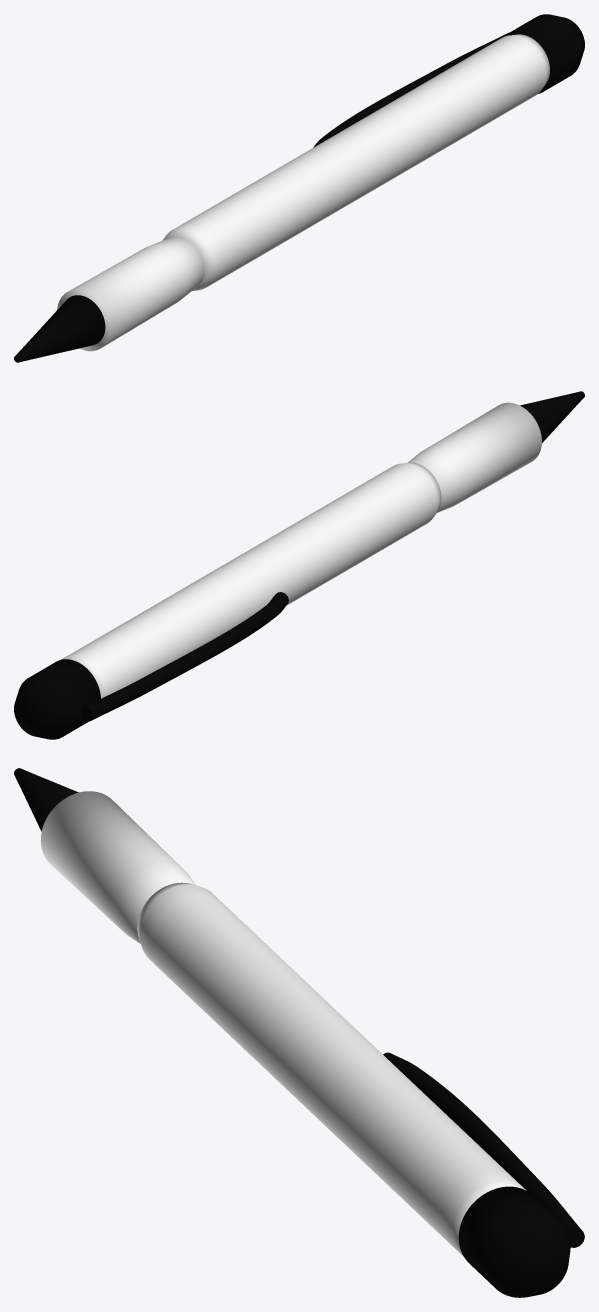
File: pen.glb
3 renders of one model, top to bottom at view 1: azimuth 30°, elevation 25°; view 2: azimuth 210°, elevation 25°; view 3: azimuth 270°, elevation 25°, orthographic. The views are drawn at different scales.
Visible parts, largest first — view 1: barrel, grip, tip, cap, clip; view 2: barrel, grip, cap, clip, tip; view 3: barrel, grip, cap, clip, tip.
Part boxes in pixels (x1,y1,x2,y2): barrel: (162, 34, 549, 290); grip: (57, 236, 204, 351); tip: (14, 295, 105, 362); cap: (504, 14, 584, 93); clip: (313, 32, 508, 147); barrel: (62, 462, 441, 698); grip: (408, 402, 541, 512); cap: (14, 659, 100, 739); clip: (81, 592, 288, 721); tip: (520, 391, 584, 442); barrel: (137, 882, 526, 1256); grip: (40, 791, 195, 943); cap: (458, 1186, 570, 1297); clip: (383, 1052, 584, 1247); tip: (14, 768, 78, 831).
Size of the model in its own units: 0.145 by 0.0114 by 0.0699.
6 materials, 6 textured.
